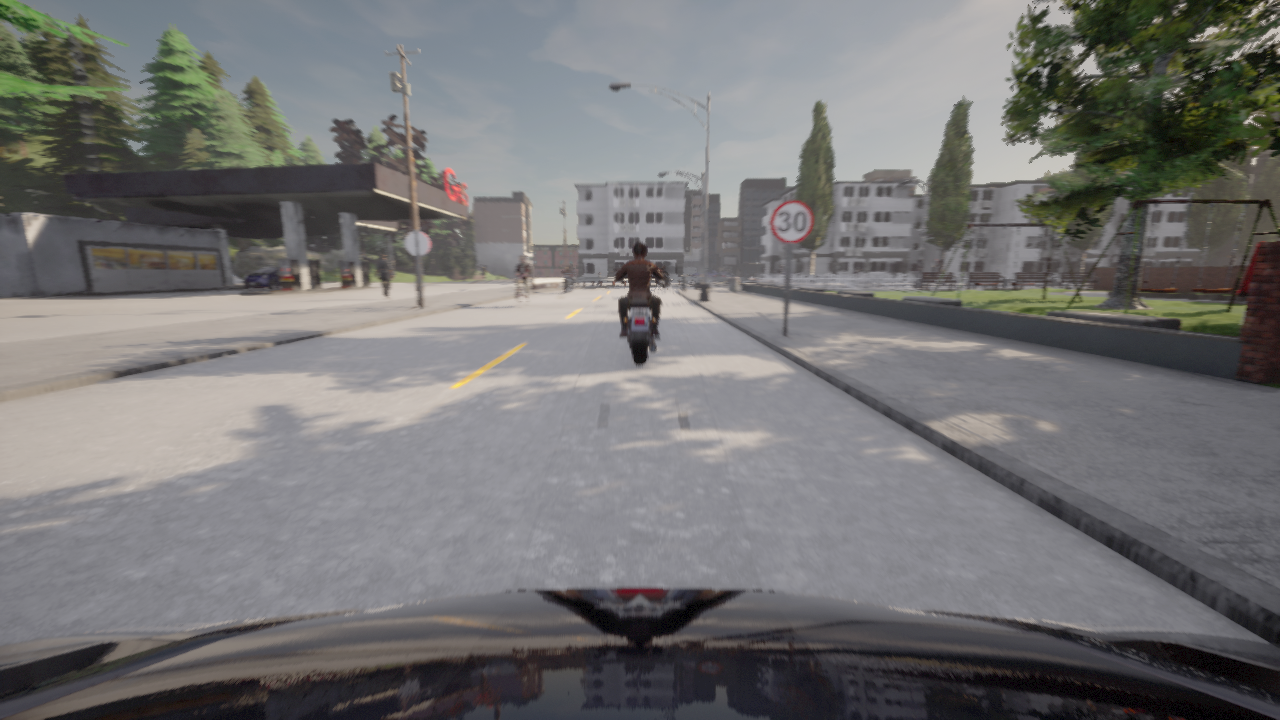cyclist: (0, 588, 1279, 719), (614, 268, 665, 365), (243, 266, 281, 289), (843, 272, 869, 287), (517, 276, 528, 307), (562, 271, 574, 293), (657, 274, 669, 290), (691, 270, 716, 276), (716, 271, 736, 276), (713, 275, 724, 276), (776, 279, 777, 281)
pedestrian: (376, 254, 392, 299), (597, 273, 600, 285)
